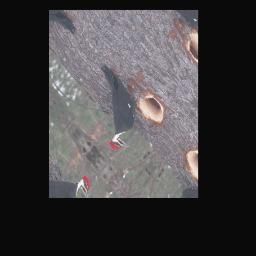Woodpecker: (73, 52, 159, 160)
